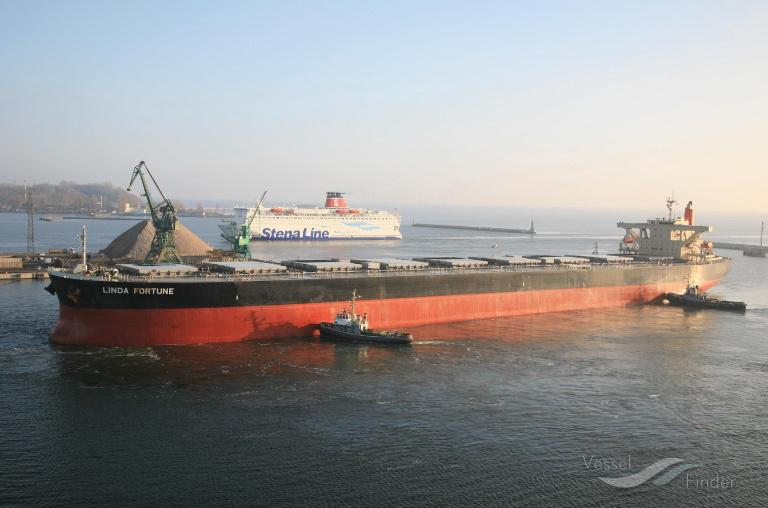OCR: (96, 280, 187, 303), (260, 222, 330, 239)
